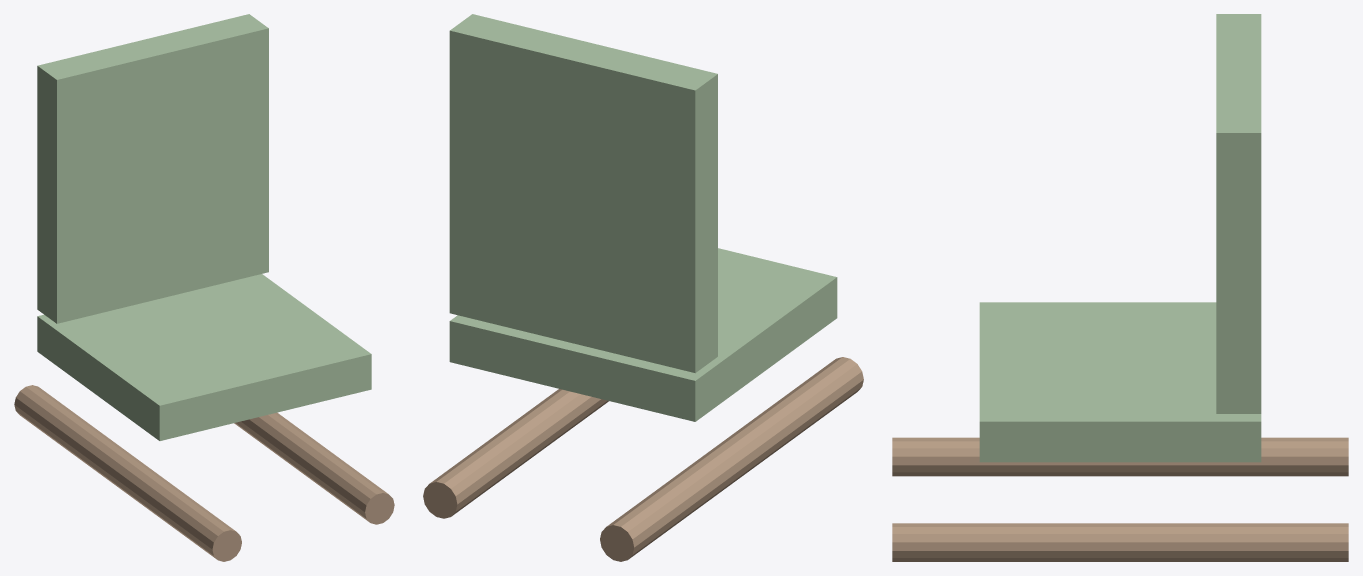
The model's file is dining_chair.glb.
3 renders of one model, left to right at view 1: azimuth 30°, elevation 25°; view 2: azimuth 150°, elevation 25°; view 3: azimuth 270°, elevation 25°, orthographic. The views are drawn at different scales.
Parts seen in each view (by area): view 1: p001, p000, p003, p002, p004, p005; view 2: p001, p000, p004, p005, p002, p003; view 3: p000, p001, p003, p005, p002, p004.
Boxes of the visible parts, bbox=[...] form: p001: bbox=[37, 14, 268, 323]; p000: bbox=[37, 274, 371, 440]; p003: bbox=[255, 413, 394, 524]; p002: bbox=[102, 449, 241, 561]; p004: bbox=[14, 385, 129, 495]; p005: bbox=[234, 412, 296, 457]; p001: bbox=[449, 14, 717, 373]; p000: bbox=[449, 248, 837, 421]; p004: bbox=[600, 432, 760, 561]; p005: bbox=[423, 392, 582, 518]; p002: bbox=[709, 357, 863, 484]; p003: bbox=[532, 389, 608, 439]; p000: bbox=[979, 302, 1261, 462]; p001: bbox=[1216, 14, 1261, 413]; p003: bbox=[892, 523, 1145, 561]; p005: bbox=[1095, 523, 1348, 561]; p002: bbox=[892, 437, 1145, 476]; p004: bbox=[1095, 437, 1348, 476].
Bounding box in the file's own units: 0.5 × 0.8691 × 0.81.
